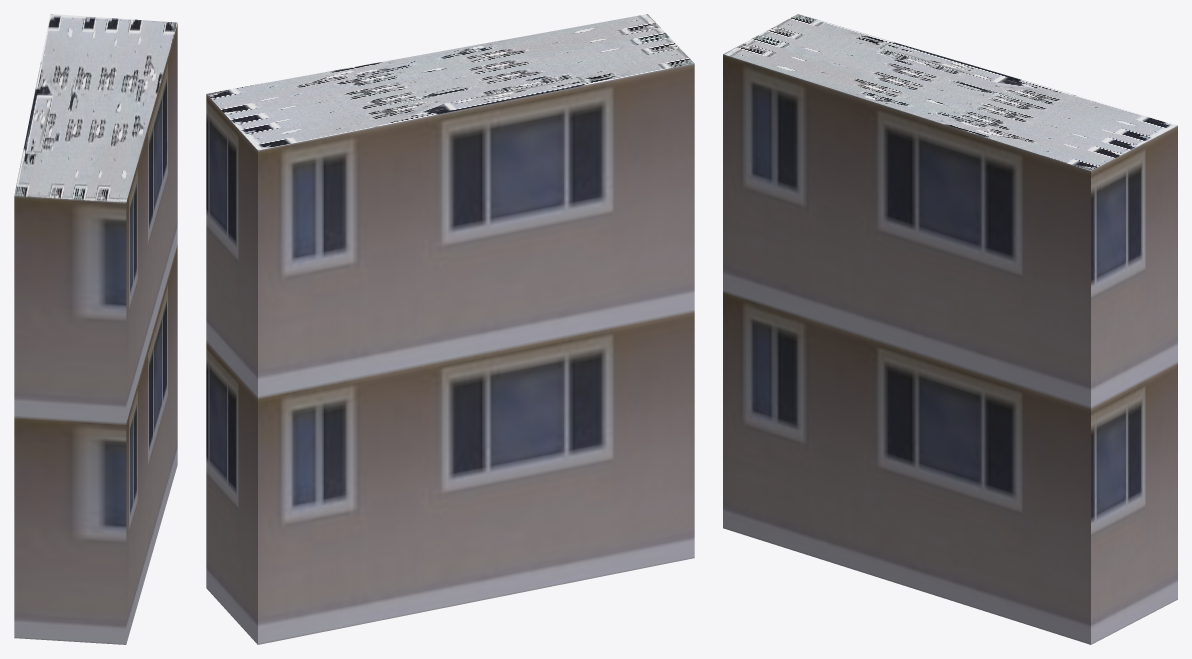
Rendered from ResTex__4347.fbx.
The picture shows the model from 3 angles, left to right: view 1: azimuth 30°, elevation 25°; view 2: azimuth 150°, elevation 25°; view 3: azimuth 270°, elevation 25°; orthographic projection. The views are drawn at different scales.
Parts seen in each view (by area): view 1: CityEngineMaterial_21_m, CityEngineMaterial_2_m; view 2: CityEngineMaterial_21_m, CityEngineMaterial_2_m; view 3: CityEngineMaterial_21_m, CityEngineMaterial_2_m.
Part boxes in pixels (<box>): CityEngineMaterial_21_m: <box>14,23,177,644</box>; CityEngineMaterial_2_m: <box>14,14,177,202</box>; CityEngineMaterial_21_m: <box>206,63,694,644</box>; CityEngineMaterial_2_m: <box>206,14,694,150</box>; CityEngineMaterial_21_m: <box>723,54,1177,644</box>; CityEngineMaterial_2_m: <box>723,14,1177,170</box>.
Size of the model in its own units: 4.26 by 6 by 5.22.
Materials: 2 (2 with a texture image).
